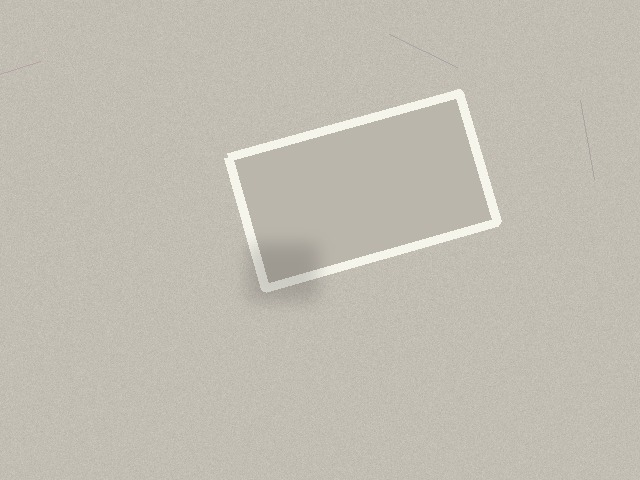parking_area: (228, 93, 497, 288)
